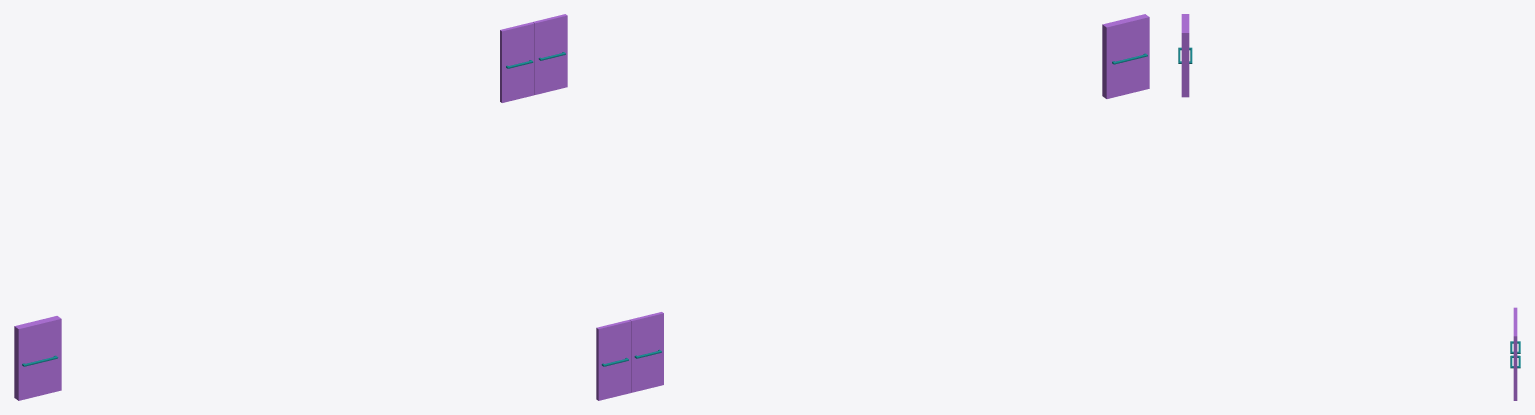
Rendered from WorkDoors.fbx.
The picture shows the model from 3 angles, left to right: view 1: azimuth 30°, elevation 25°; view 2: azimuth 210°, elevation 25°; view 3: azimuth 270°, elevation 25°; orthographic projection. The views are drawn at different scales.
Visible parts, largest first — view 1: DoubleDoor, ServerRoomDoor; view 2: DoubleDoor, ServerRoomDoor; view 3: ServerRoomDoor, DoubleDoor.
Part boxes in pixels (<box>): DoubleDoor: <box>500,14,567,102</box>; ServerRoomDoor: <box>14,316,61,400</box>; DoubleDoor: <box>596,312,663,400</box>; ServerRoomDoor: <box>1102,14,1149,98</box>; ServerRoomDoor: <box>1178,14,1192,97</box>; DoubleDoor: <box>1510,307,1520,400</box>.
Bounding box in the file's own units: 22390 × 2093 × 10052.
